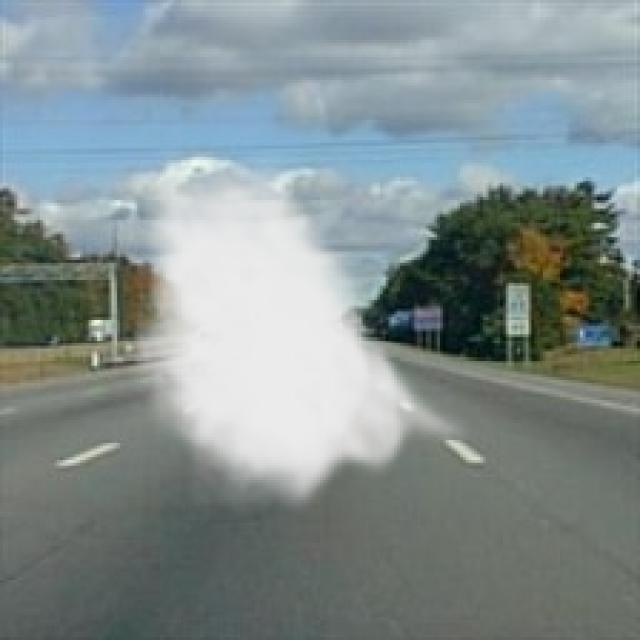Smoke: (126, 145, 474, 518)
